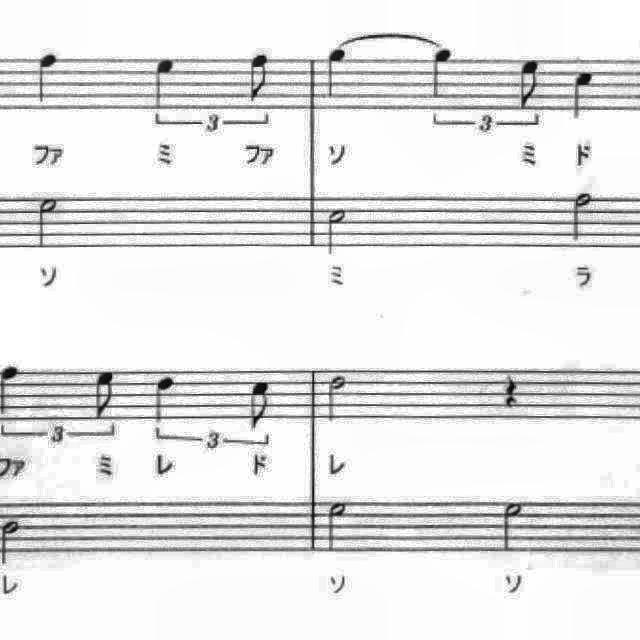Eighth-note: (512, 54, 550, 114), (243, 376, 279, 436), (242, 47, 278, 107), (88, 365, 124, 423)
Half-note: (493, 494, 531, 558), (322, 494, 358, 558), (30, 190, 66, 253), (322, 202, 356, 262), (565, 186, 597, 247), (321, 369, 352, 427), (0, 516, 24, 568)
Quarter-note: (148, 51, 184, 120), (425, 43, 463, 105), (319, 43, 357, 105), (29, 46, 65, 110), (564, 64, 600, 128), (148, 368, 184, 426)
Quarter-rest: (496, 365, 524, 413)
